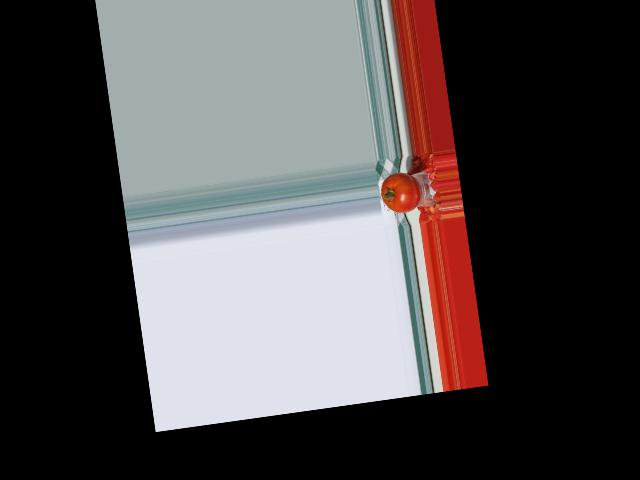tomato: (378, 170, 423, 216)
